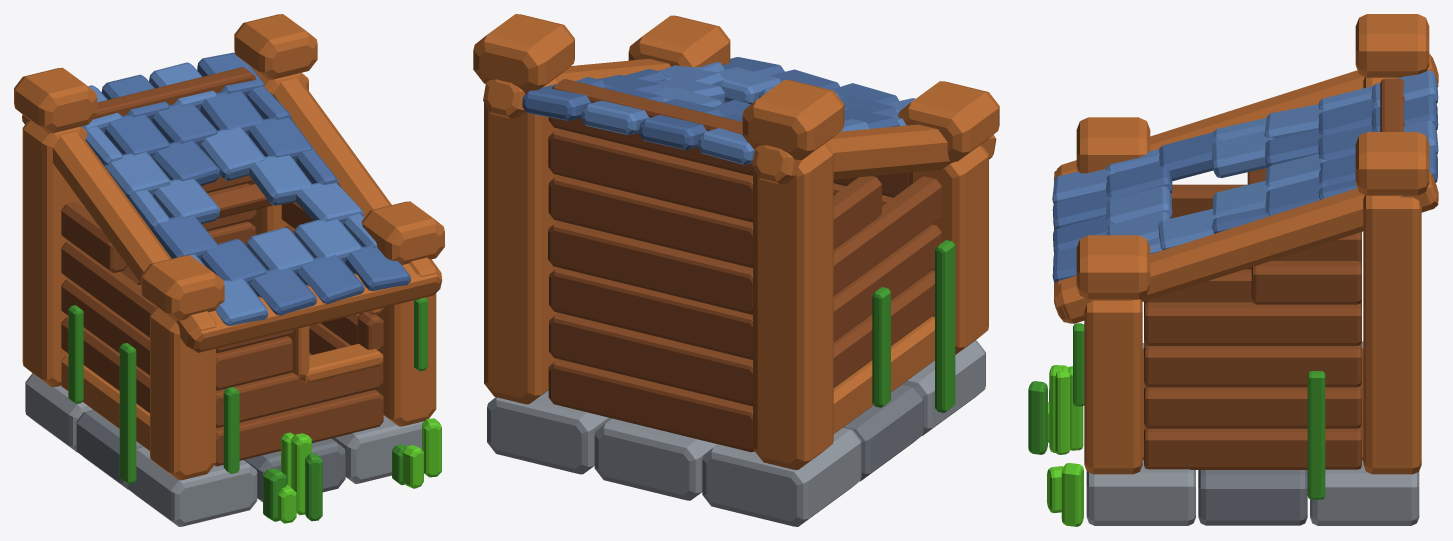
The model's file is DrownedVillage_House_Corner.glb.
3 renders of one model, left to right at view 1: azimuth 30°, elevation 25°; view 2: azimuth 150°, elevation 25°; view 3: azimuth 270°, elevation 25°, orthographic. The views are drawn at different scales.
Visible parts, largest first — view 1: post_01, post_03, rafter_01, stone_base_03, post_04, plank_01, eave_beam_01, rafter_02, plank_02, post_cap_01, post_cap_02, post_cap_03 (+59 smaller); view 2: post_01, post_02, plank_10, plank_12, plank_07, plank_08, stone_base_01, plank_11, plank_09, post_03, rafter_01, stone_base_04 (+31 smaller); view 3: post_02, rafter_02, post_04, plank_22, plank_21, plank_20, plank_19, stone_base_08, stone_base_09, stone_base_07, plank_23, post_cap_02 (+42 smaller).
Boxes of the visible parts, x1=… form: post_01: x1=22, y1=120, x2=87, y2=387; post_03: x1=150, y1=307, x2=215, y2=480; rafter_01: x1=22, y1=114, x2=216, y2=352; stone_base_03: x1=127, y1=446, x2=257, y2=526; post_04: x1=375, y1=293, x2=436, y2=426; plank_01: x1=214, y1=389, x2=383, y2=466; eave_beam_01: x1=189, y1=263, x2=442, y2=352; rafter_02: x1=254, y1=69, x2=441, y2=276; plank_02: x1=216, y1=363, x2=383, y2=428; post_cap_01: x1=14, y1=67, x2=97, y2=133; post_cap_02: x1=234, y1=14, x2=317, y2=79; post_cap_03: x1=141, y1=255, x2=224, y2=320; post_01: x1=753, y1=143, x2=833, y2=469; post_02: x1=484, y1=77, x2=559, y2=404; plank_10: x1=548, y1=221, x2=752, y2=314; plank_12: x1=548, y1=129, x2=752, y2=222; plank_07: x1=548, y1=359, x2=754, y2=452; plank_08: x1=549, y1=313, x2=752, y2=406; stone_base_01: x1=702, y1=427, x2=861, y2=526; plank_11: x1=548, y1=175, x2=752, y2=267; plank_09: x1=549, y1=267, x2=752, y2=359; post_03: x1=908, y1=145, x2=988, y2=354; rafter_01: x1=752, y1=124, x2=995, y2=184; stone_base_04: x1=594, y1=418, x2=717, y2=500; post_02: x1=1363, y1=195, x2=1421, y2=474; rafter_02: x1=1057, y1=171, x2=1438, y2=323; post_04: x1=1084, y1=299, x2=1142, y2=474; plank_22: x1=1144, y1=302, x2=1361, y2=345; plank_21: x1=1144, y1=345, x2=1361, y2=387; plank_20: x1=1144, y1=386, x2=1361, y2=428; plank_19: x1=1144, y1=428, x2=1361, y2=469; stone_base_08: x1=1198, y1=470, x2=1307, y2=525; stone_base_09: x1=1086, y1=460, x2=1195, y2=525; stone_base_07: x1=1310, y1=460, x2=1419, y2=525; plank_23: x1=1251, y1=261, x2=1361, y2=304; post_cap_02: x1=1355, y1=132, x2=1429, y2=195.
Bounding box in the file's own units: 2.82 × 3.28 × 3.23.
